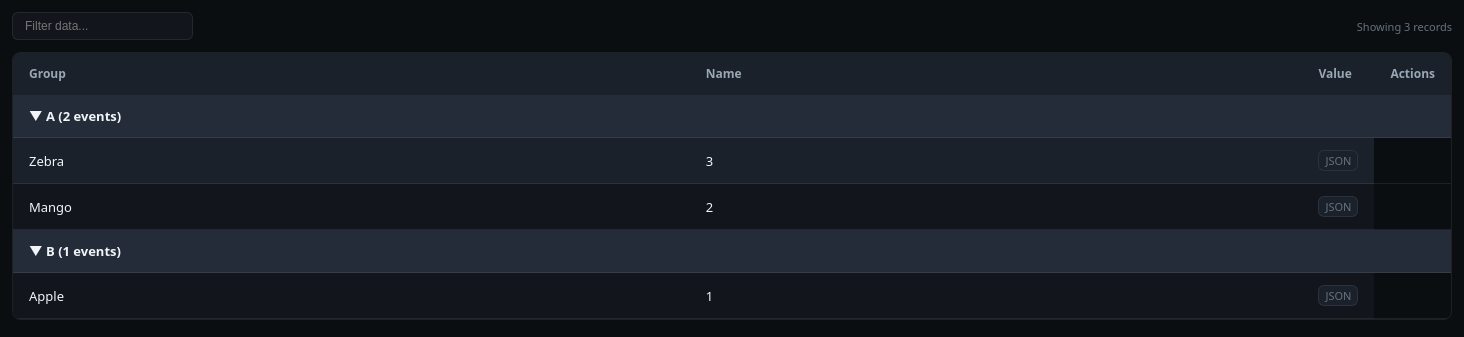
Test: DataTable › groups rows by the given key with a collapsible group header
This screenshot has width=1464, height=337.
Expected: the text "Zebra" is shown, [13,138,690,184]
Click the row "▼ A (2 events)". click: (732, 116)
box: [13,94,1451,138]
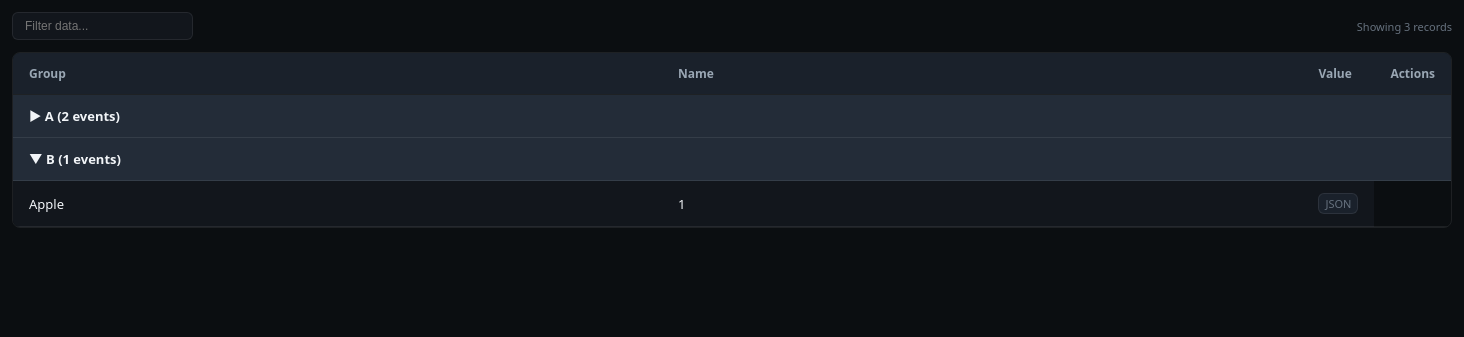
Expected: the text "Apple" is shown, [13,180,662,226]
Expected: the row "▶ A (2 events)" is shown, [13,94,1451,138]
Expected: the text "Zebra" is gone
